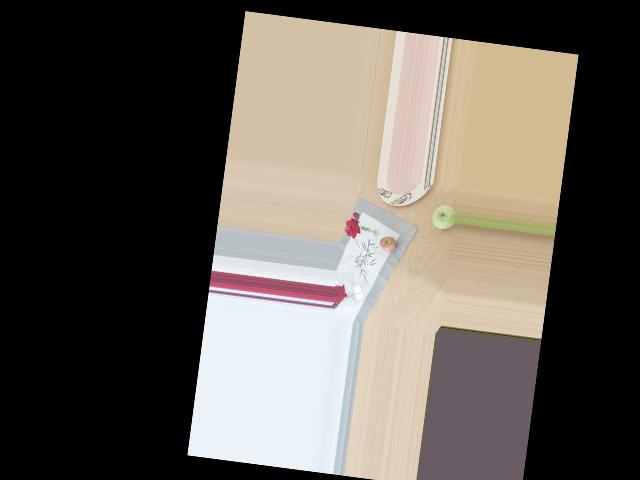apple: (430, 202, 457, 231)
